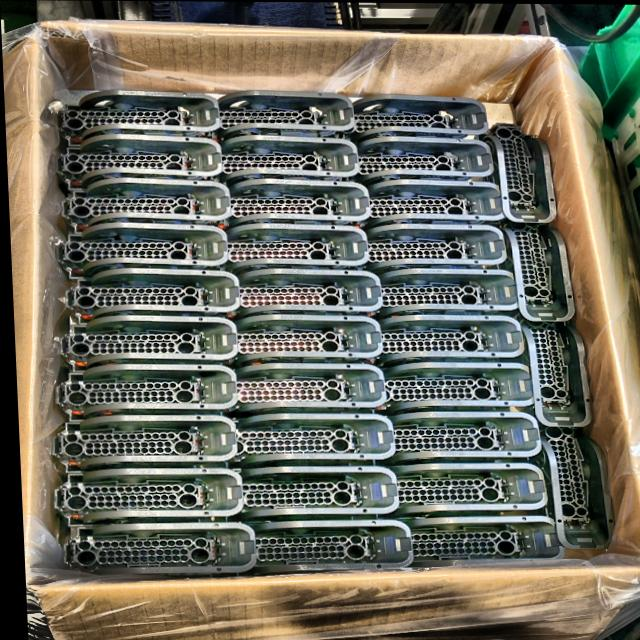P38: (193, 413, 392, 475), (517, 424, 614, 549), (50, 468, 238, 526), (47, 415, 233, 473), (52, 364, 234, 422), (221, 465, 394, 526), (57, 522, 251, 576), (202, 314, 380, 372), (55, 315, 235, 372), (207, 363, 383, 421), (372, 462, 543, 521), (62, 268, 238, 325), (54, 223, 226, 279), (53, 134, 221, 191), (236, 519, 408, 574), (59, 178, 229, 233), (56, 90, 219, 146), (209, 268, 380, 321), (380, 411, 538, 468), (511, 312, 590, 426), (483, 221, 573, 321), (204, 178, 369, 232), (357, 314, 521, 368), (200, 223, 367, 276), (468, 122, 555, 223), (369, 362, 530, 416), (191, 90, 354, 143), (195, 135, 357, 188), (397, 515, 560, 567), (356, 269, 516, 321), (342, 223, 505, 274), (345, 179, 504, 231), (334, 136, 493, 187), (336, 94, 487, 144)
